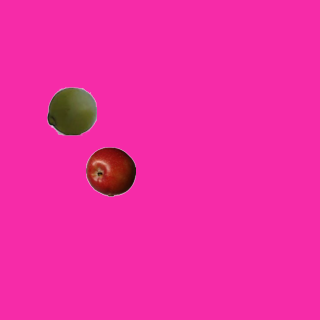Apple Braeburn: (85, 146, 135, 196)
Grape White 4: (46, 85, 96, 135)
